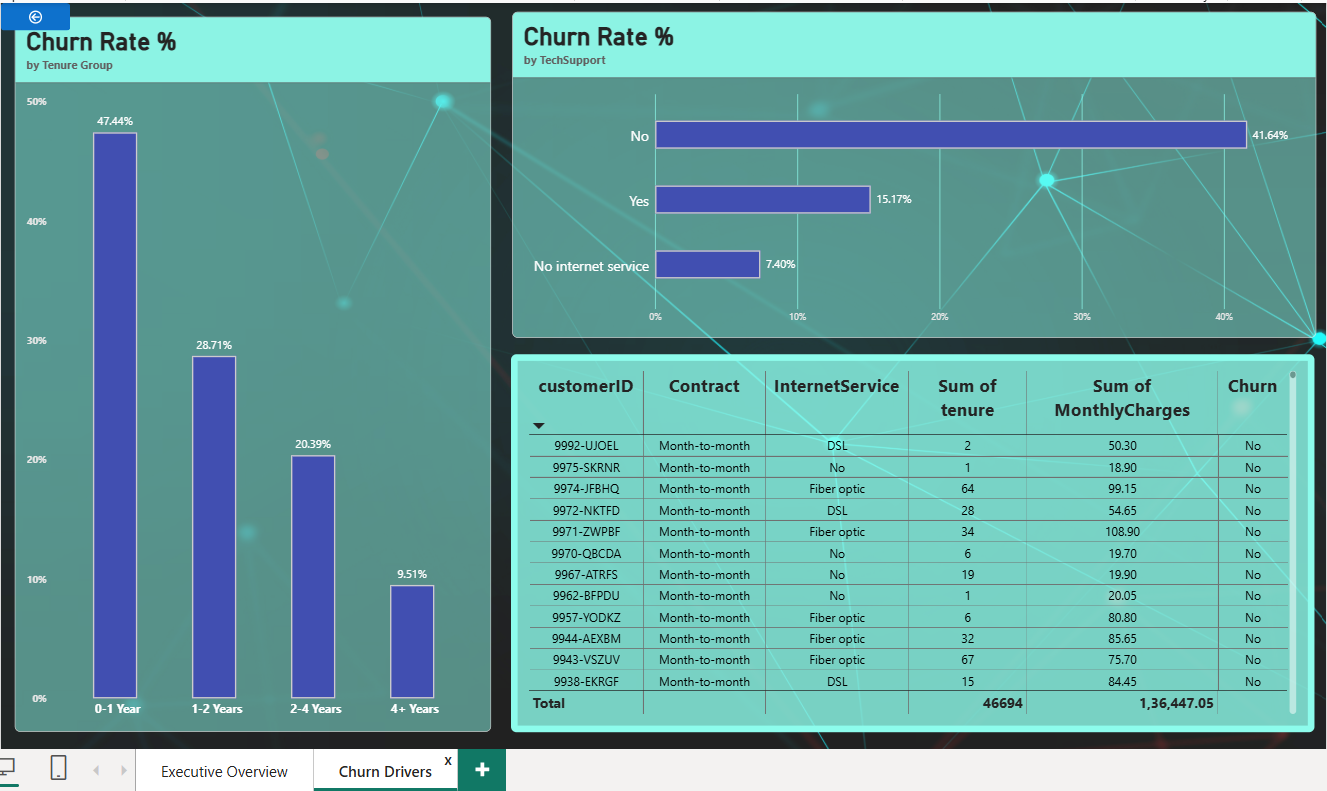

This screenshot's page, from the dashboard's own definition file:
{"tool":"powerbi","page":{"name":"Churn Drivers","canvas":[1920,1080],"ordinal":1},"visuals":[{"type":"clusteredColumnChart","fields":{"Category":["WA_Fn-UseC_-Telco-Customer-Chur.Tenure Group"],"Y":["WA_Fn-UseC_-Telco-Customer-Chur.Churn Rate %"]},"box":[20.6,20.6,689.5,1035.3],"z":0},{"type":"clusteredBarChart","fields":{"Category":["WA_Fn-UseC_-Telco-Customer-Chur.TechSupport"],"Y":["WA_Fn-UseC_-Telco-Customer-Chur.Churn Rate %"]},"box":[740.2,12.7,1163.6,472.3],"z":1},{"type":"tableEx","fields":{"Values":["WA_Fn-UseC_-Telco-Customer-Chur.customerID","WA_Fn-UseC_-Telco-Customer-Chur.Contract","WA_Fn-UseC_-Telco-Customer-Chur.InternetService","Sum(WA_Fn-UseC_-Telco-Customer-Chur.tenure)","Sum(WA_Fn-UseC_-Telco-Customer-Chur.MonthlyCharges)","WA_Fn-UseC_-Telco-Customer-Chur.Churn"]},"box":[738.9,508.4,1163,547.5],"z":2},{"type":"actionButton","box":[0,0,100,40],"z":4}]}

Visuals, with their boxes in screenshot pixels (x1, y1, x2, y2):
clusteredColumnChart - WA_Fn-UseC_-Telco-Customer-Chur.Tenure Group x WA_Fn-UseC_-Telco-Customer-Chur.Churn Rate %: 1:11:488:743
clusteredBarChart - WA_Fn-UseC_-Telco-Customer-Chur.TechSupport x WA_Fn-UseC_-Telco-Customer-Chur.Churn Rate %: 509:6:1326:339
tableEx - WA_Fn-UseC_-Telco-Customer-Chur.customerID x WA_Fn-UseC_-Telco-Customer-Chur.Contract: 508:356:1326:743
actionButton: 0:0:57:25
